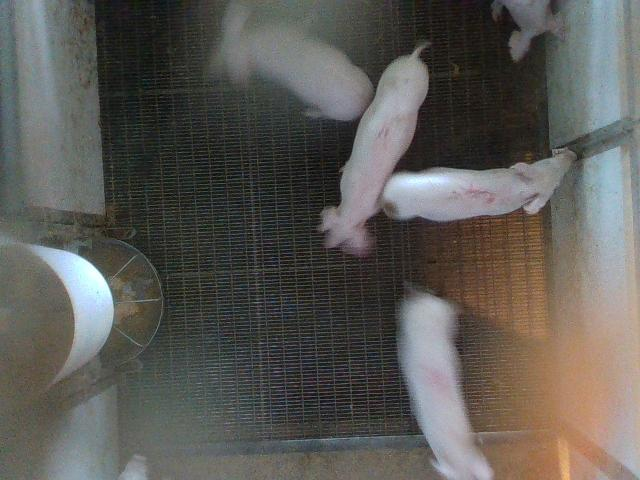pig-4: (398, 292, 492, 479)
pig-5: (381, 150, 575, 221)
